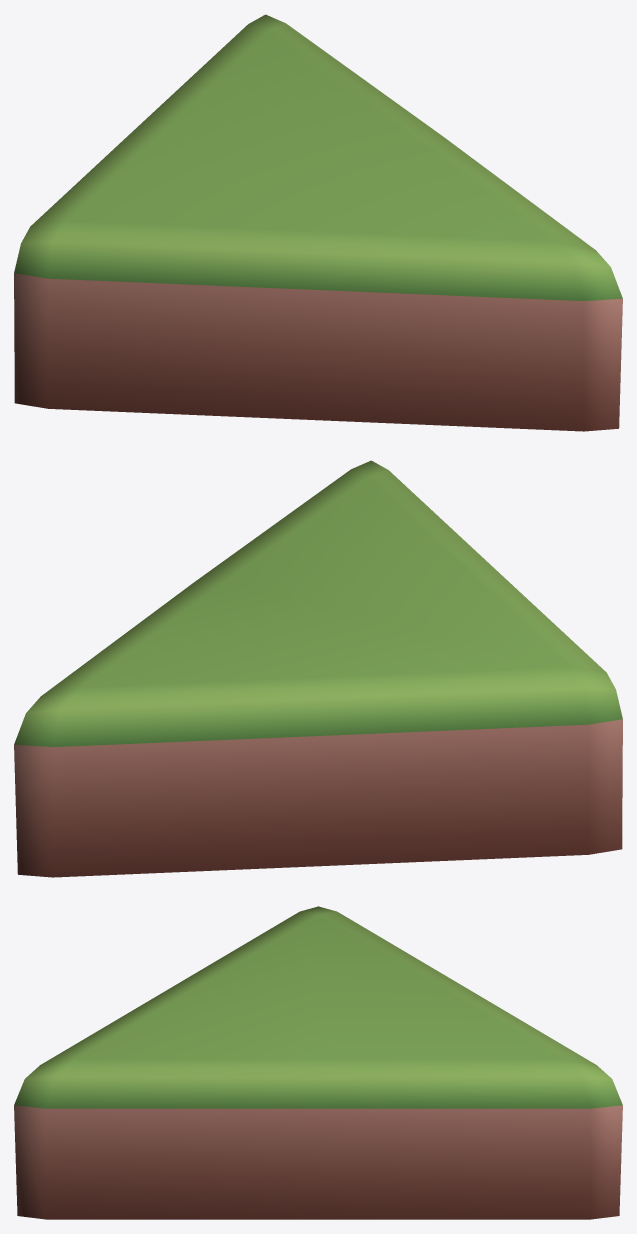
The model's file is Forest_Triangle.fbx.
3 views of the same model, one above another, from view 1: azimuth 30°, elevation 25°; view 2: azimuth 150°, elevation 25°; view 3: azimuth 270°, elevation 25° (orthographic). The views are drawn at different scales.
Visible parts, largest first — view 1: Plane.067; view 2: Plane.067; view 3: Plane.067.
Boxes of the visible parts, bbox=[...] form: Plane.067: bbox=[14, 14, 622, 431]; Plane.067: bbox=[14, 460, 622, 877]; Plane.067: bbox=[14, 906, 622, 1219].
Size of the model in its own units: 205 by 76.25 by 291.
